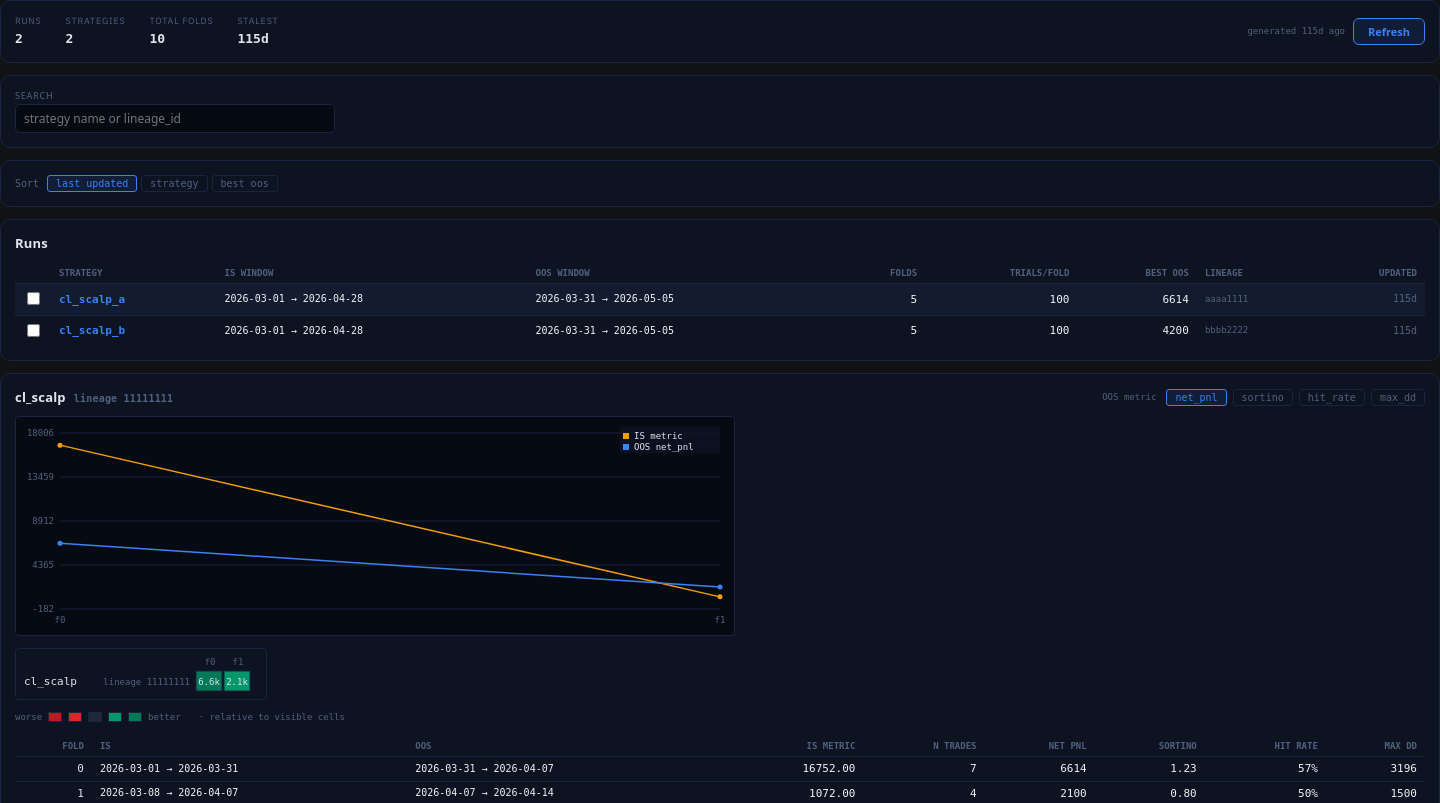
Test: BacktestsTab › shows the comparison panel after checking 2 rows
The image size is (1440, 803).
Check both run-a and run-b.
Click the checkbox named "Compare cl_scalp_a" at (34, 299), box 27,292 -> 40,305
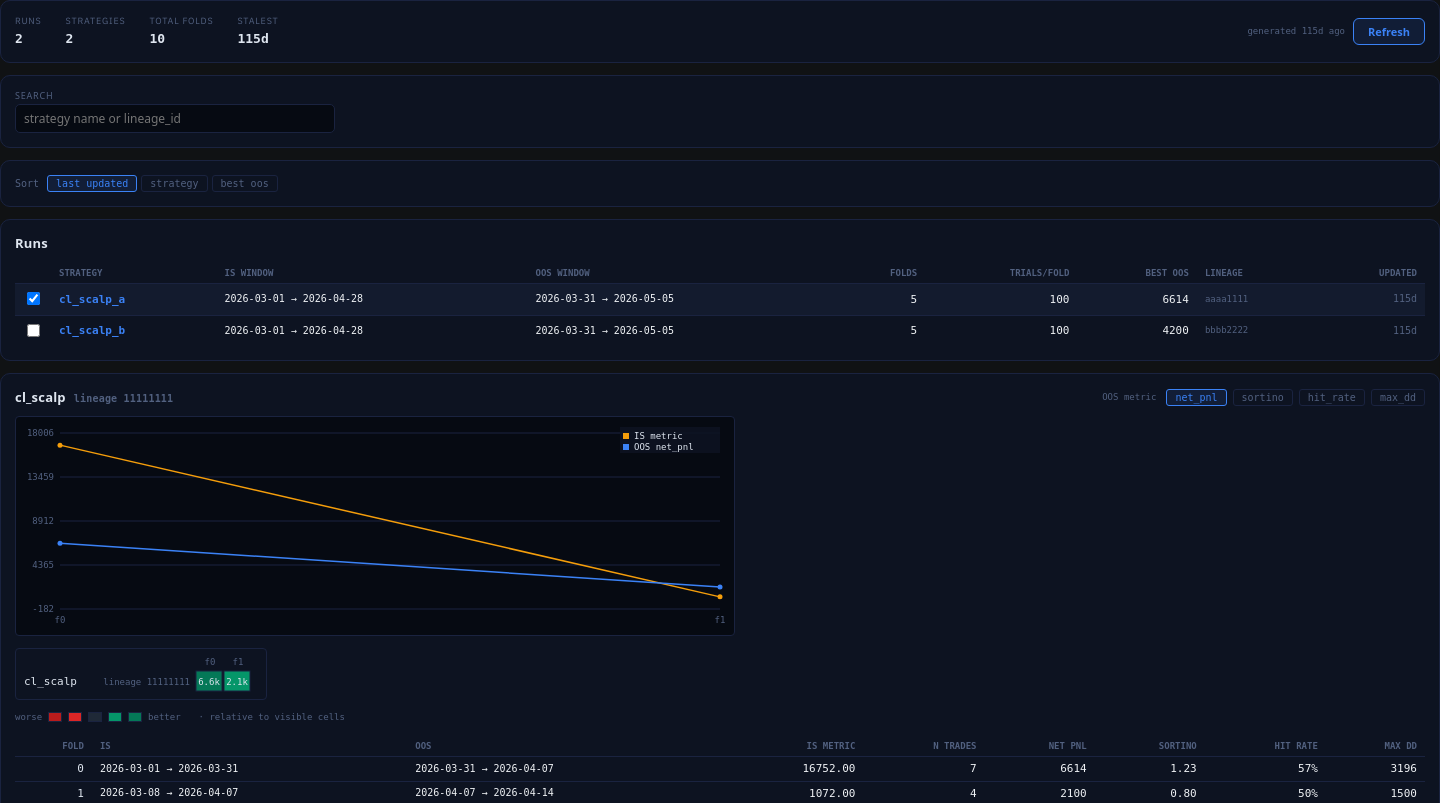
Click the checkbox named "Compare cl_scalp_b" at (34, 330), box 27,324 -> 40,336
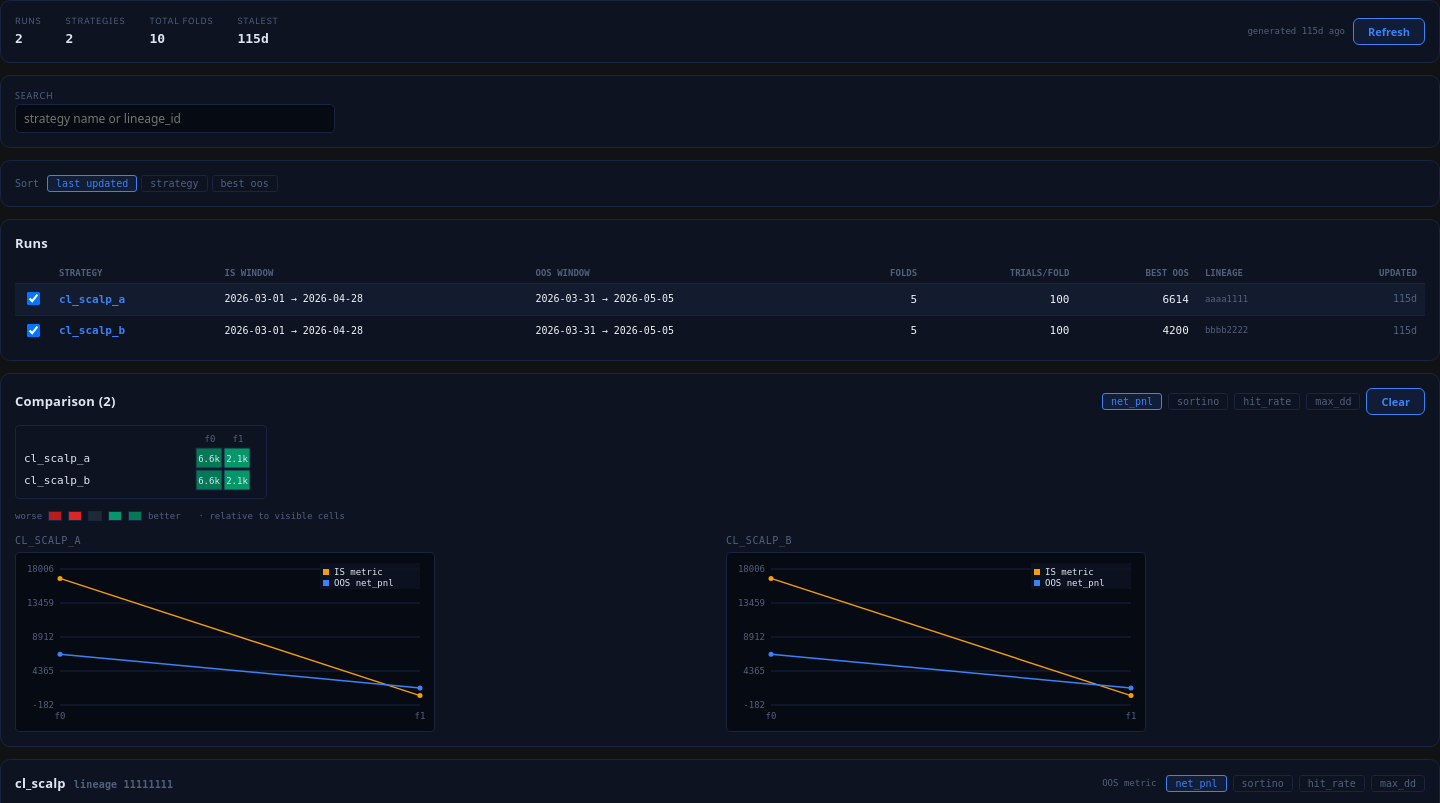
Now the text "Comparison (2)" is shown, box 15,392 -> 116,410
